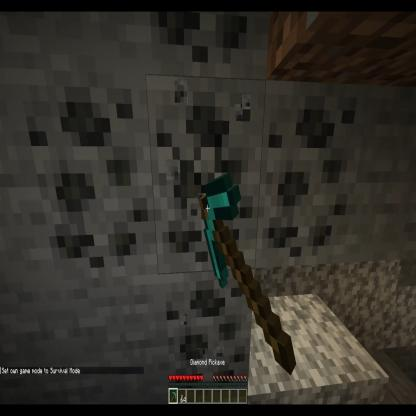coal ore: (19, 70, 160, 290), (144, 70, 260, 278), (262, 78, 361, 274), (162, 266, 257, 410), (152, 6, 274, 73)
